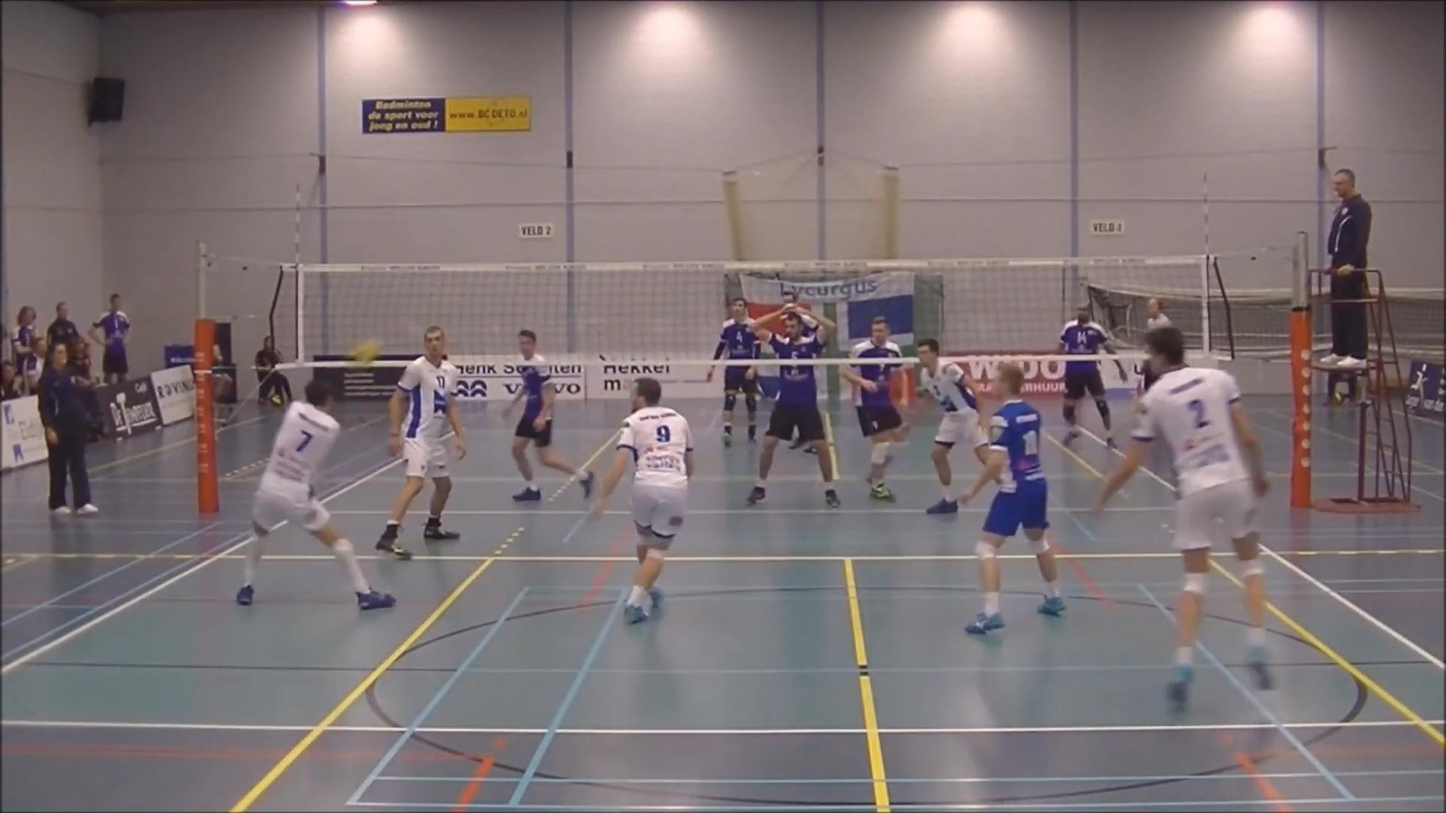ricezione: (236, 369, 398, 611)
